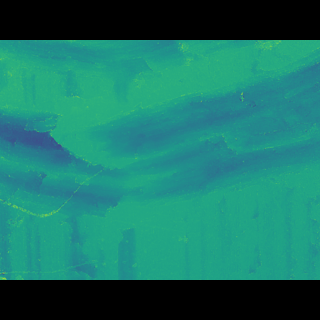Loch: (0, 69, 320, 215)
